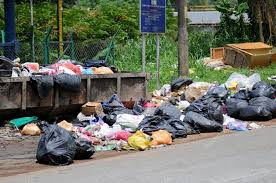garbage: (11, 112, 176, 166), (108, 93, 231, 148), (161, 78, 276, 135), (16, 63, 120, 90)
